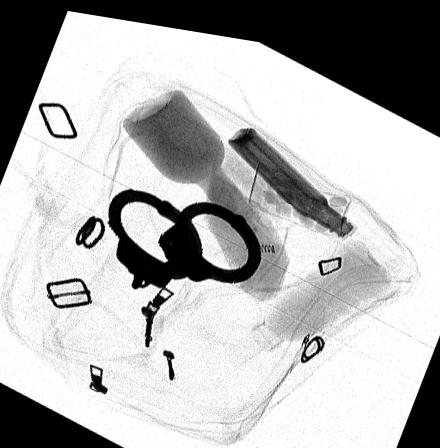HandCuffs: (108, 184, 261, 285)
